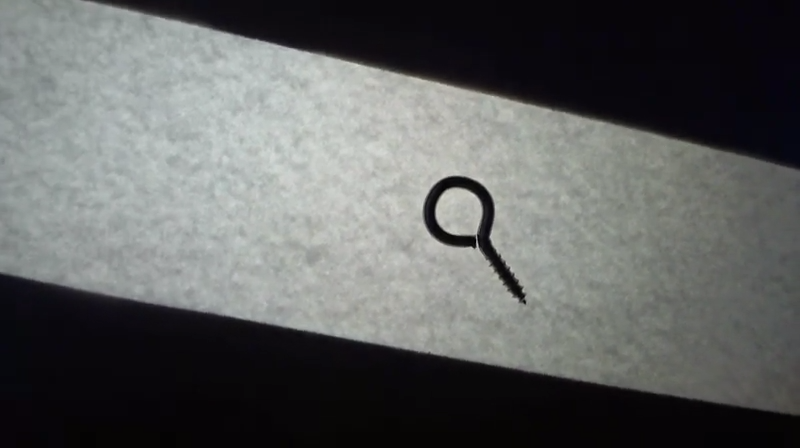O001: (420, 171, 530, 308)
